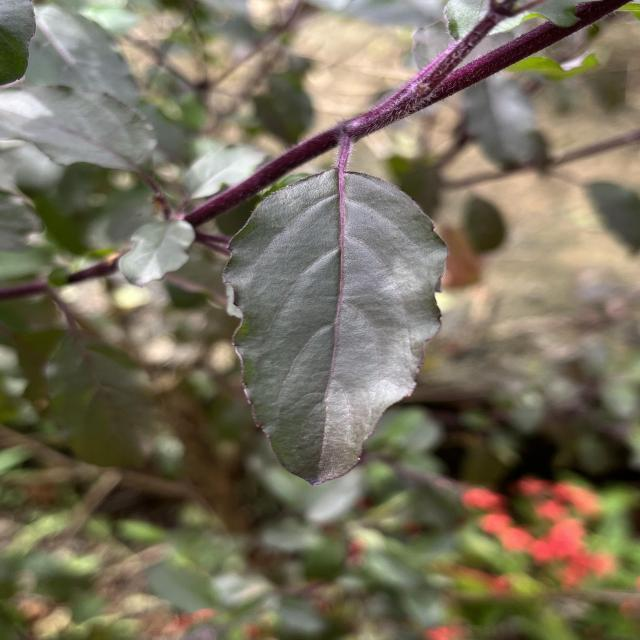Ocimum tenuiflorum: (220, 168, 450, 488)
